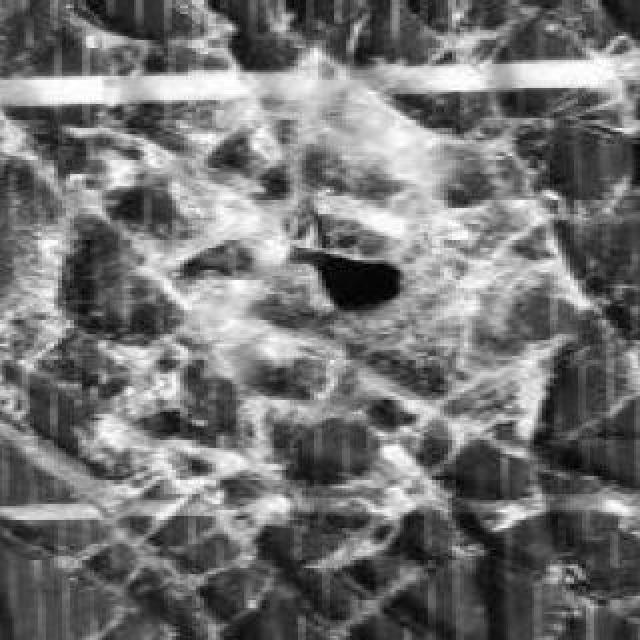Physical-damage: (0, 18, 640, 614)
